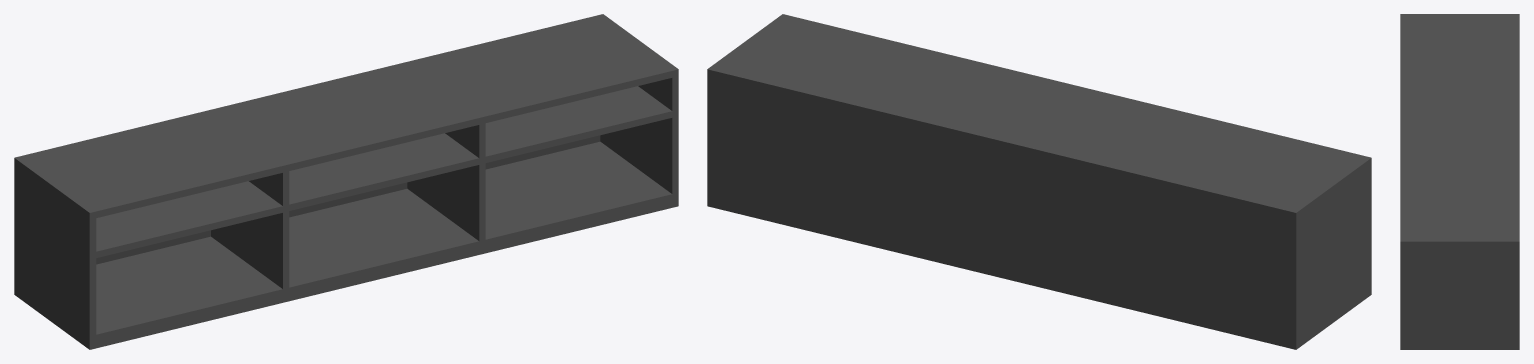
File: TV_Table1_C3.fbx
3 views of the same model, side by side, from view 1: azimuth 30°, elevation 25°; view 2: azimuth 150°, elevation 25°; view 3: azimuth 270°, elevation 25° (orthographic). The views are drawn at different scales.
Visible parts, largest first — view 1: TV_Table1_C3; view 2: TV_Table1_C3; view 3: TV_Table1_C3.
Boxes of the visible parts, x1,y1,x2,y2 form: TV_Table1_C3: (14,14,678,349); TV_Table1_C3: (707,14,1371,349); TV_Table1_C3: (1400,14,1519,349).
Size of the model in its own units: 180 by 40 by 40.
